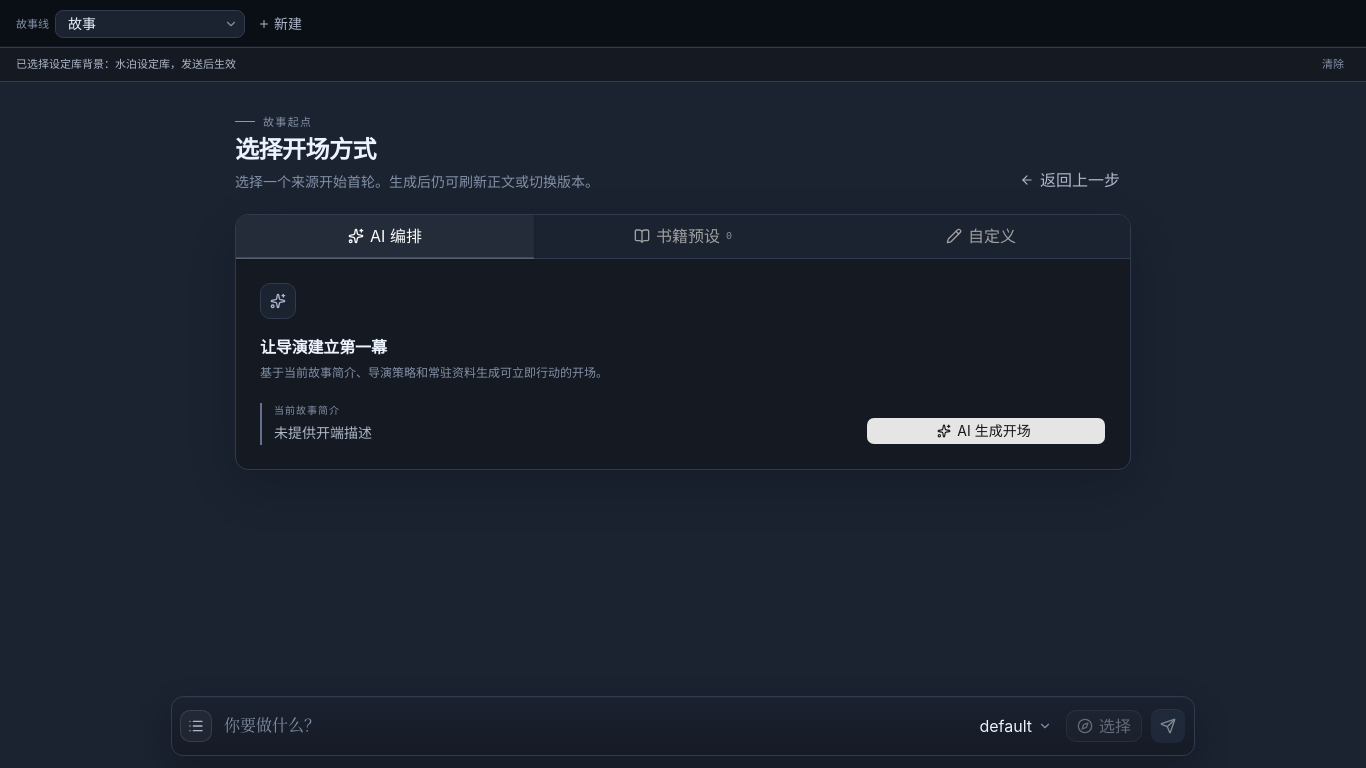
Test case: Phase 3.2-B3b Library handoff › appends explicit stale guidance to the visible error and never claims a refresh recovers the run
Type "查看水泊" into the field.
click(593, 726); type("查看水泊")  # box [224,714,961,738]
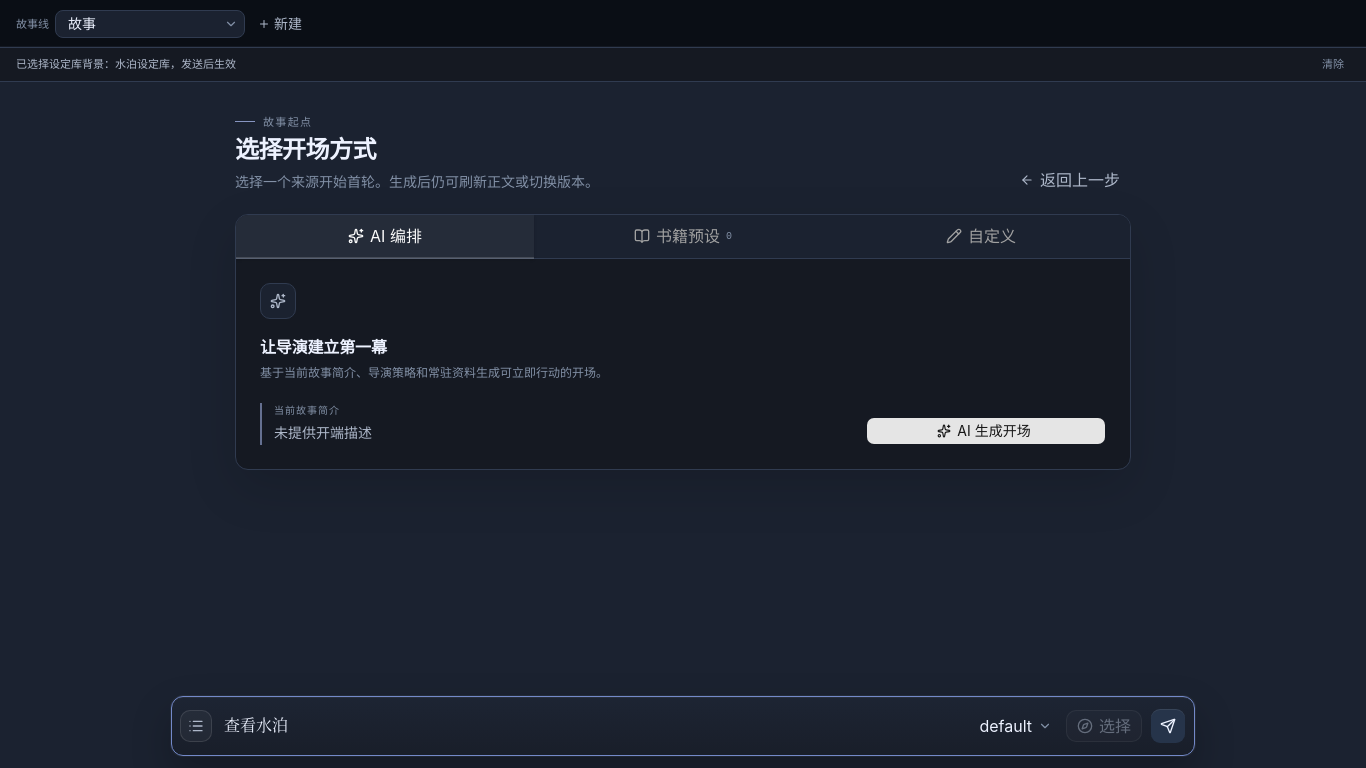
Click the button named "发送".
click(1168, 726)  # box [1150,708,1186,744]
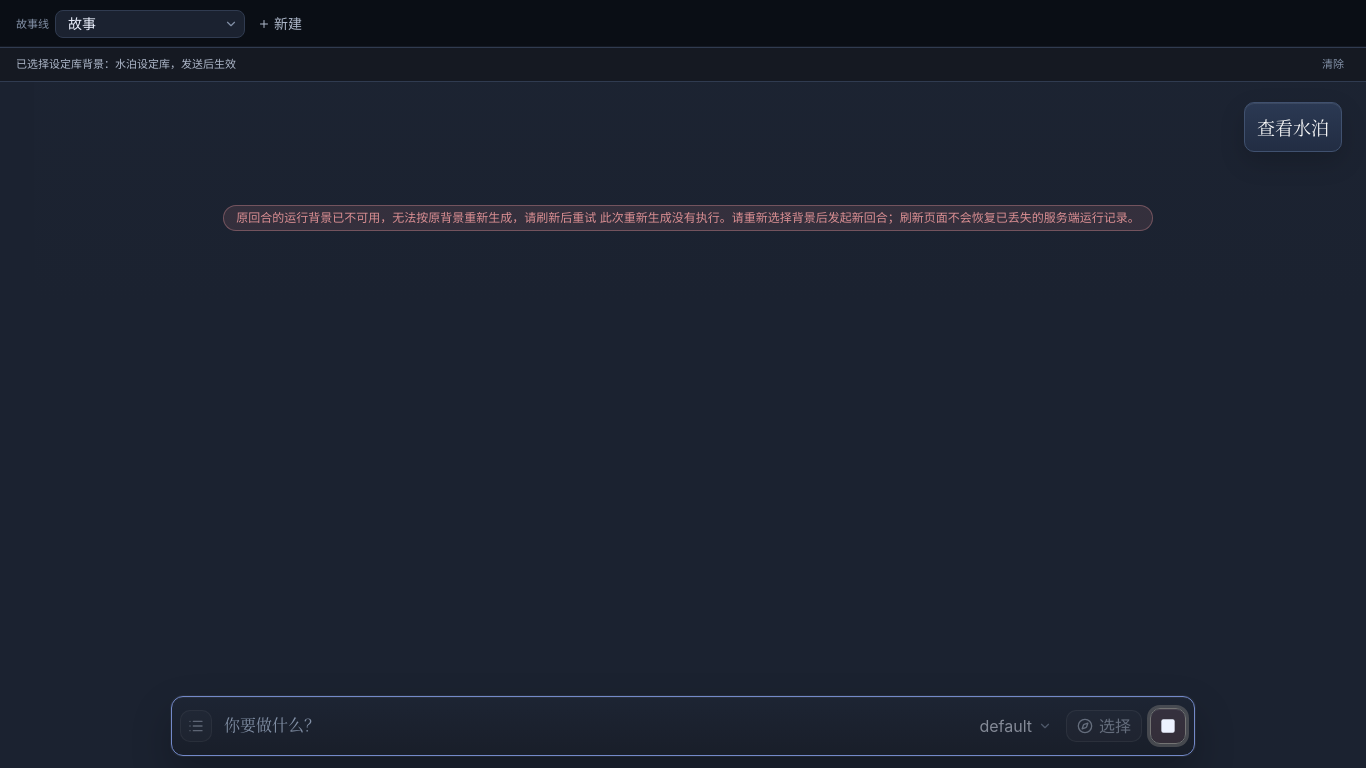
Check: the text "原回合的运行背景已不可用" shows "此次重新生成没有执行", box [236,210,1140,224]
Check: the text "原回合的运行背景已不可用" shows "刷新页面不会恢复已丢失的服务端运行记录", box [236,210,1140,224]
